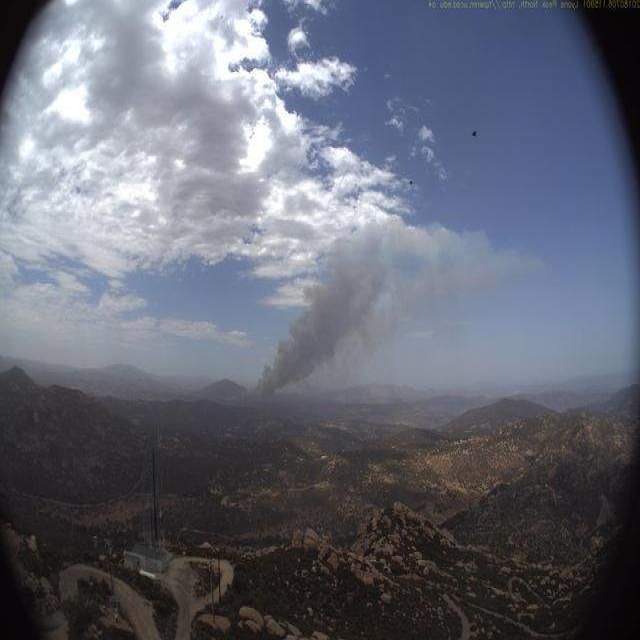Smoke: (222, 211, 550, 413)
